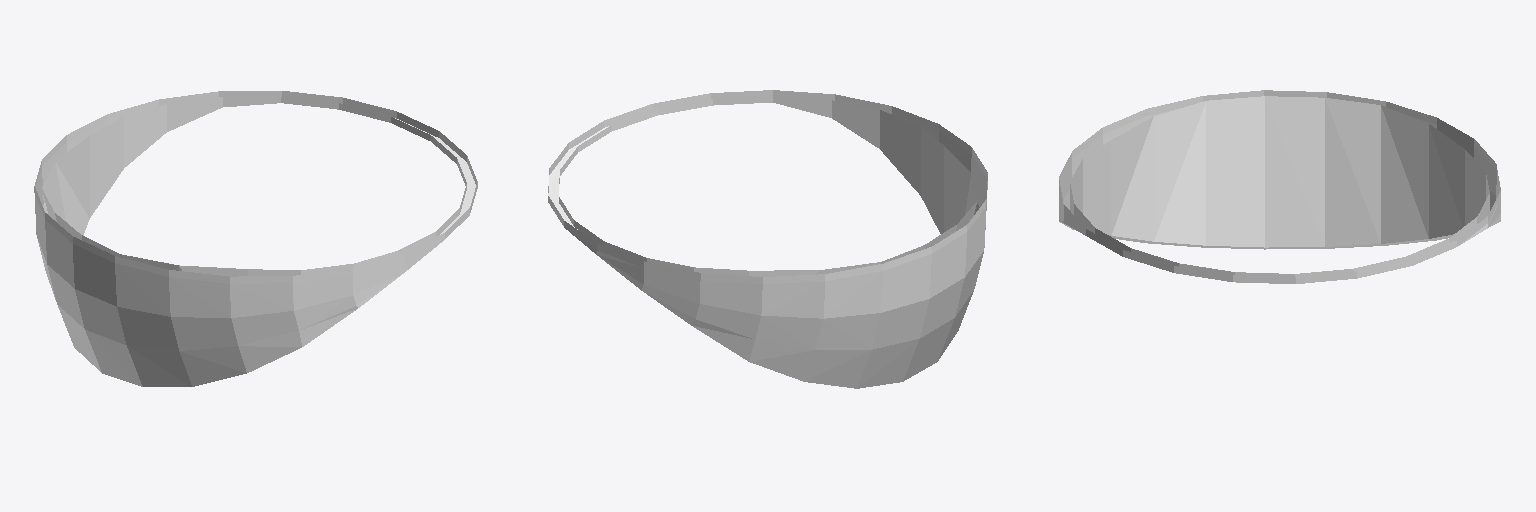
3 views of the same model, side by side, from view 1: azimuth 30°, elevation 25°; view 2: azimuth 150°, elevation 25°; view 3: azimuth 270°, elevation 25° (orthographic).
Visible parts, largest first — view 1: RShoulderPitch_RShoulderPadMobil.001; view 2: RShoulderPitch_RShoulderPadMobil.001; view 3: RShoulderPitch_RShoulderPadMobil.001.
Part boxes in pixels (left/top/right/bottom): RShoulderPitch_RShoulderPadMobil.001: left=34, top=91, right=477, bottom=386; RShoulderPitch_RShoulderPadMobil.001: left=548, top=90, right=987, bottom=388; RShoulderPitch_RShoulderPadMobil.001: left=1059, top=90, right=1500, bottom=283.
Size of the model in its own units: 0.6598 by 0.2384 by 0.6598.
Materials: 1 (1 with a texture image).